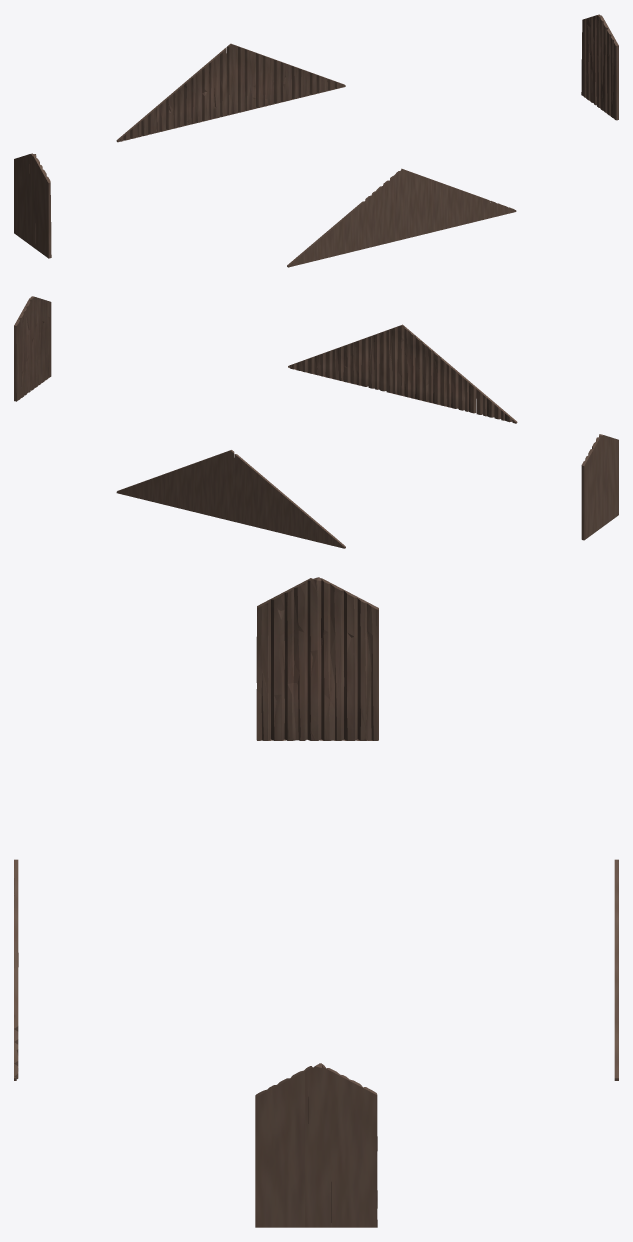
File: roof_walls.fbx
The picture shows the model from 3 angles, top to bottom: view 1: azimuth 30°, elevation 25°; view 2: azimuth 150°, elevation 25°; view 3: azimuth 270°, elevation 25°; orthographic projection. The views are drawn at different scales.
Parts seen in each view (by area): view 1: Walls.004; view 2: Walls.004; view 3: Walls.004.
Boxes of the visible parts, left/top/right/bottom form: Walls.004: left=14, top=14, right=618, bottom=267; Walls.004: left=14, top=296, right=618, bottom=548; Walls.004: left=14, top=577, right=618, bottom=1227.
Size of the model in its own units: 3523 by 543 by 1841.
Materials: 1 (1 with a texture image).
